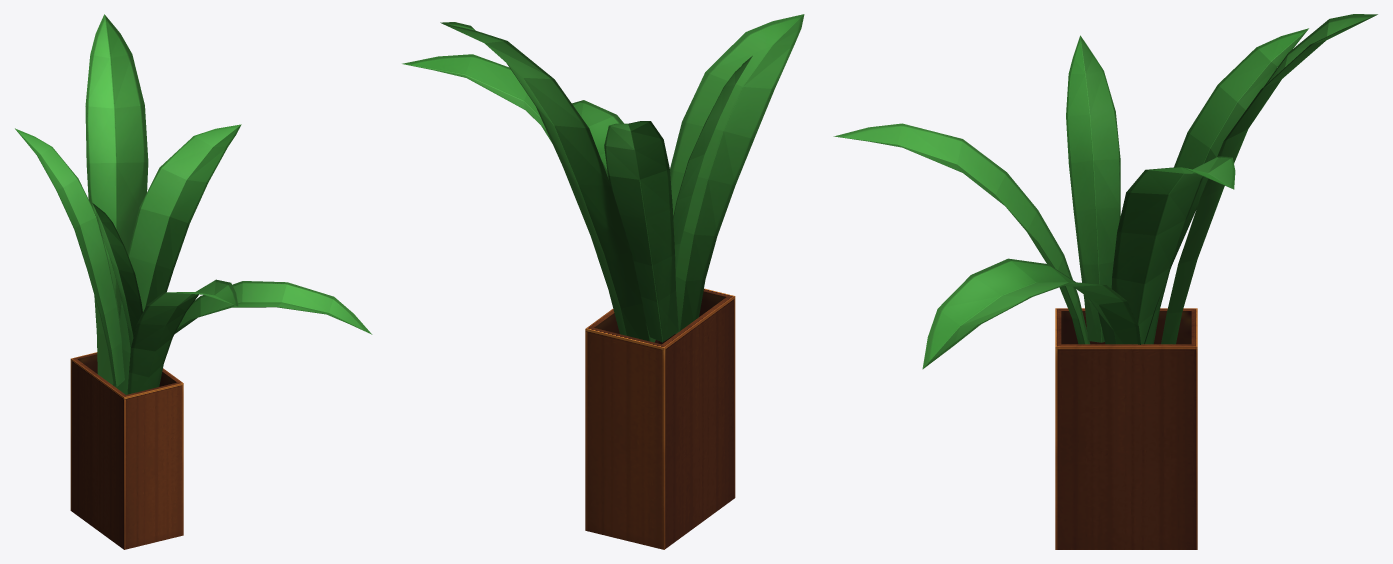
Rendered from fence_004_03.FBX.
The picture shows the model from 3 angles, left to right: view 1: azimuth 30°, elevation 25°; view 2: azimuth 150°, elevation 25°; view 3: azimuth 270°, elevation 25°; orthographic projection. The views are drawn at different scales.
Visible parts, largest first — view 1: fence_004_03; view 2: fence_004_03; view 3: fence_004_03.
Part boxes in pixels (x1=…): fence_004_03: x1=15, y1=14, x2=372, y2=549; fence_004_03: x1=402, y1=14, x2=804, y2=549; fence_004_03: x1=833, y1=14, x2=1377, y2=549.
Bounding box in the file's own units: 681 × 1241 × 1090.
